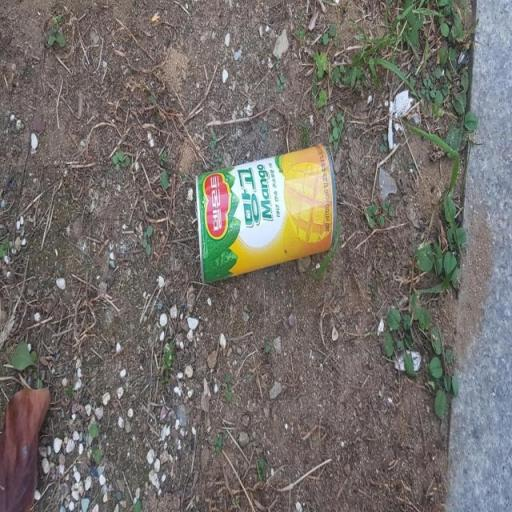metal: (166, 108, 366, 334)
